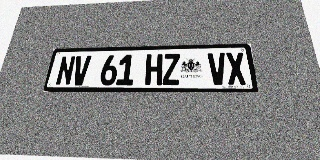1: (116, 54, 135, 85)
6: (99, 55, 119, 85)
H: (145, 54, 163, 85)
N: (55, 56, 76, 85)
V: (207, 53, 228, 85), (71, 55, 91, 85)
X: (225, 52, 247, 85)
Z: (162, 54, 180, 85)
